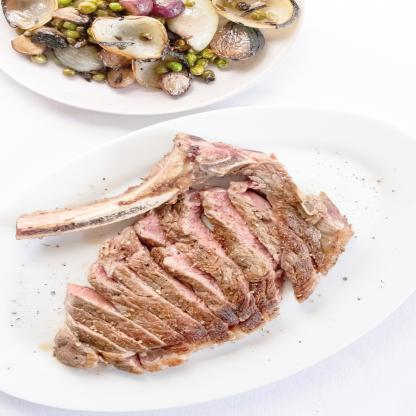Carne: (148, 210, 256, 329), (229, 182, 318, 296), (91, 262, 199, 348), (197, 197, 283, 304), (255, 161, 344, 260), (61, 291, 154, 359), (55, 322, 122, 370)
